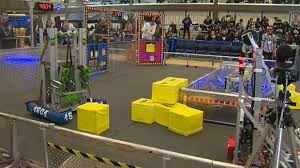cube: (74, 103, 113, 133), (170, 105, 203, 137), (129, 98, 157, 125), (153, 79, 179, 105), (155, 102, 175, 125)
